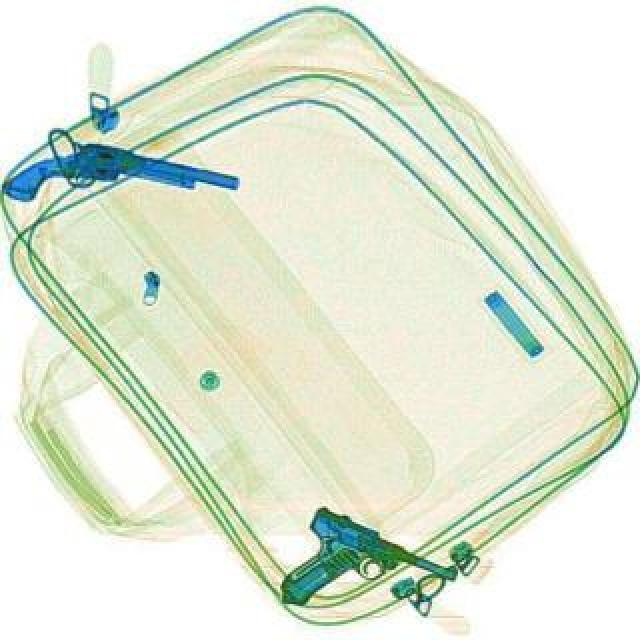gun: (0, 124, 240, 248), (280, 510, 444, 638)
